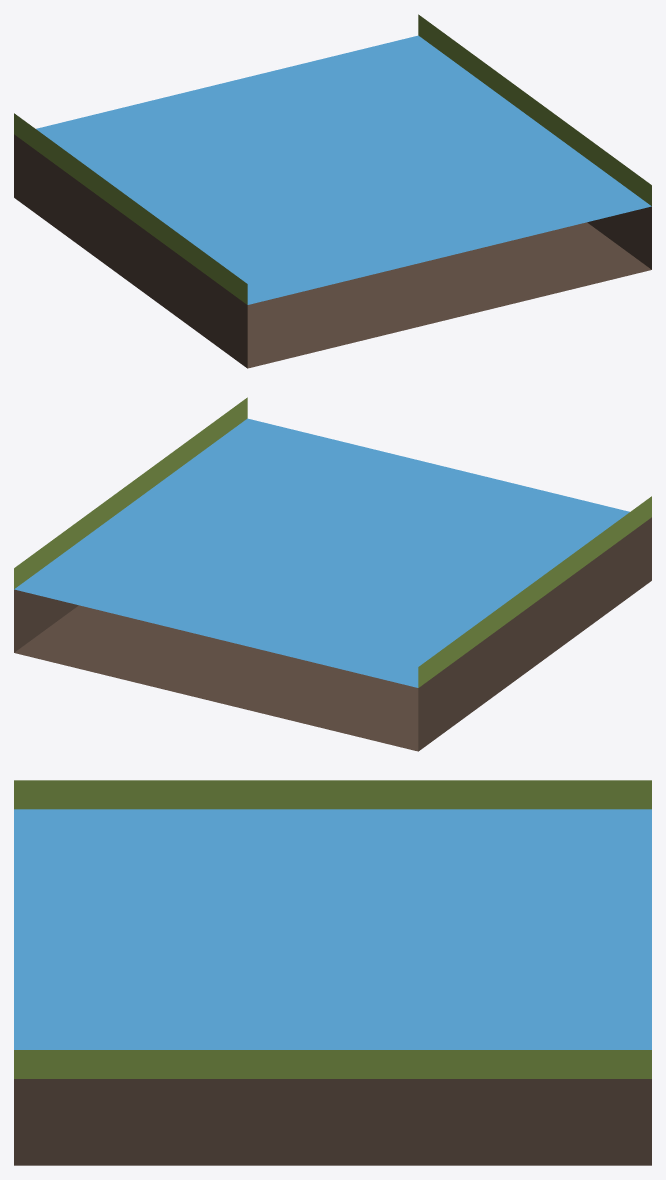
File: water-tile_01.fbx
3 renders of one model, top to bottom at view 1: azimuth 30°, elevation 25°; view 2: azimuth 150°, elevation 25°; view 3: azimuth 270°, elevation 25°, orthographic. The views are drawn at different scales.
Parts seen in each view (by area): view 1: water_01; view 2: water_01; view 3: water_01.
Part boxes in pixels (bbox=[...]): water_01: bbox=[14, 14, 651, 368]; water_01: bbox=[14, 397, 651, 751]; water_01: bbox=[14, 780, 651, 1165].
Size of the model in its own units: 1000 by 200 by 1000.
